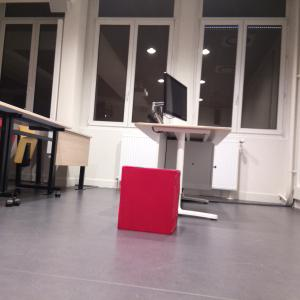medium: (116, 164, 184, 239)
